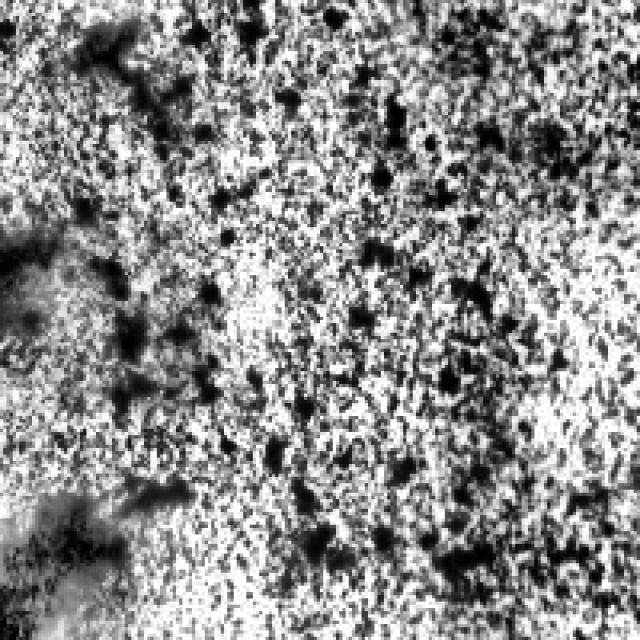Rolled_in_Scale: (198, 0, 636, 630), (0, 0, 195, 630)
